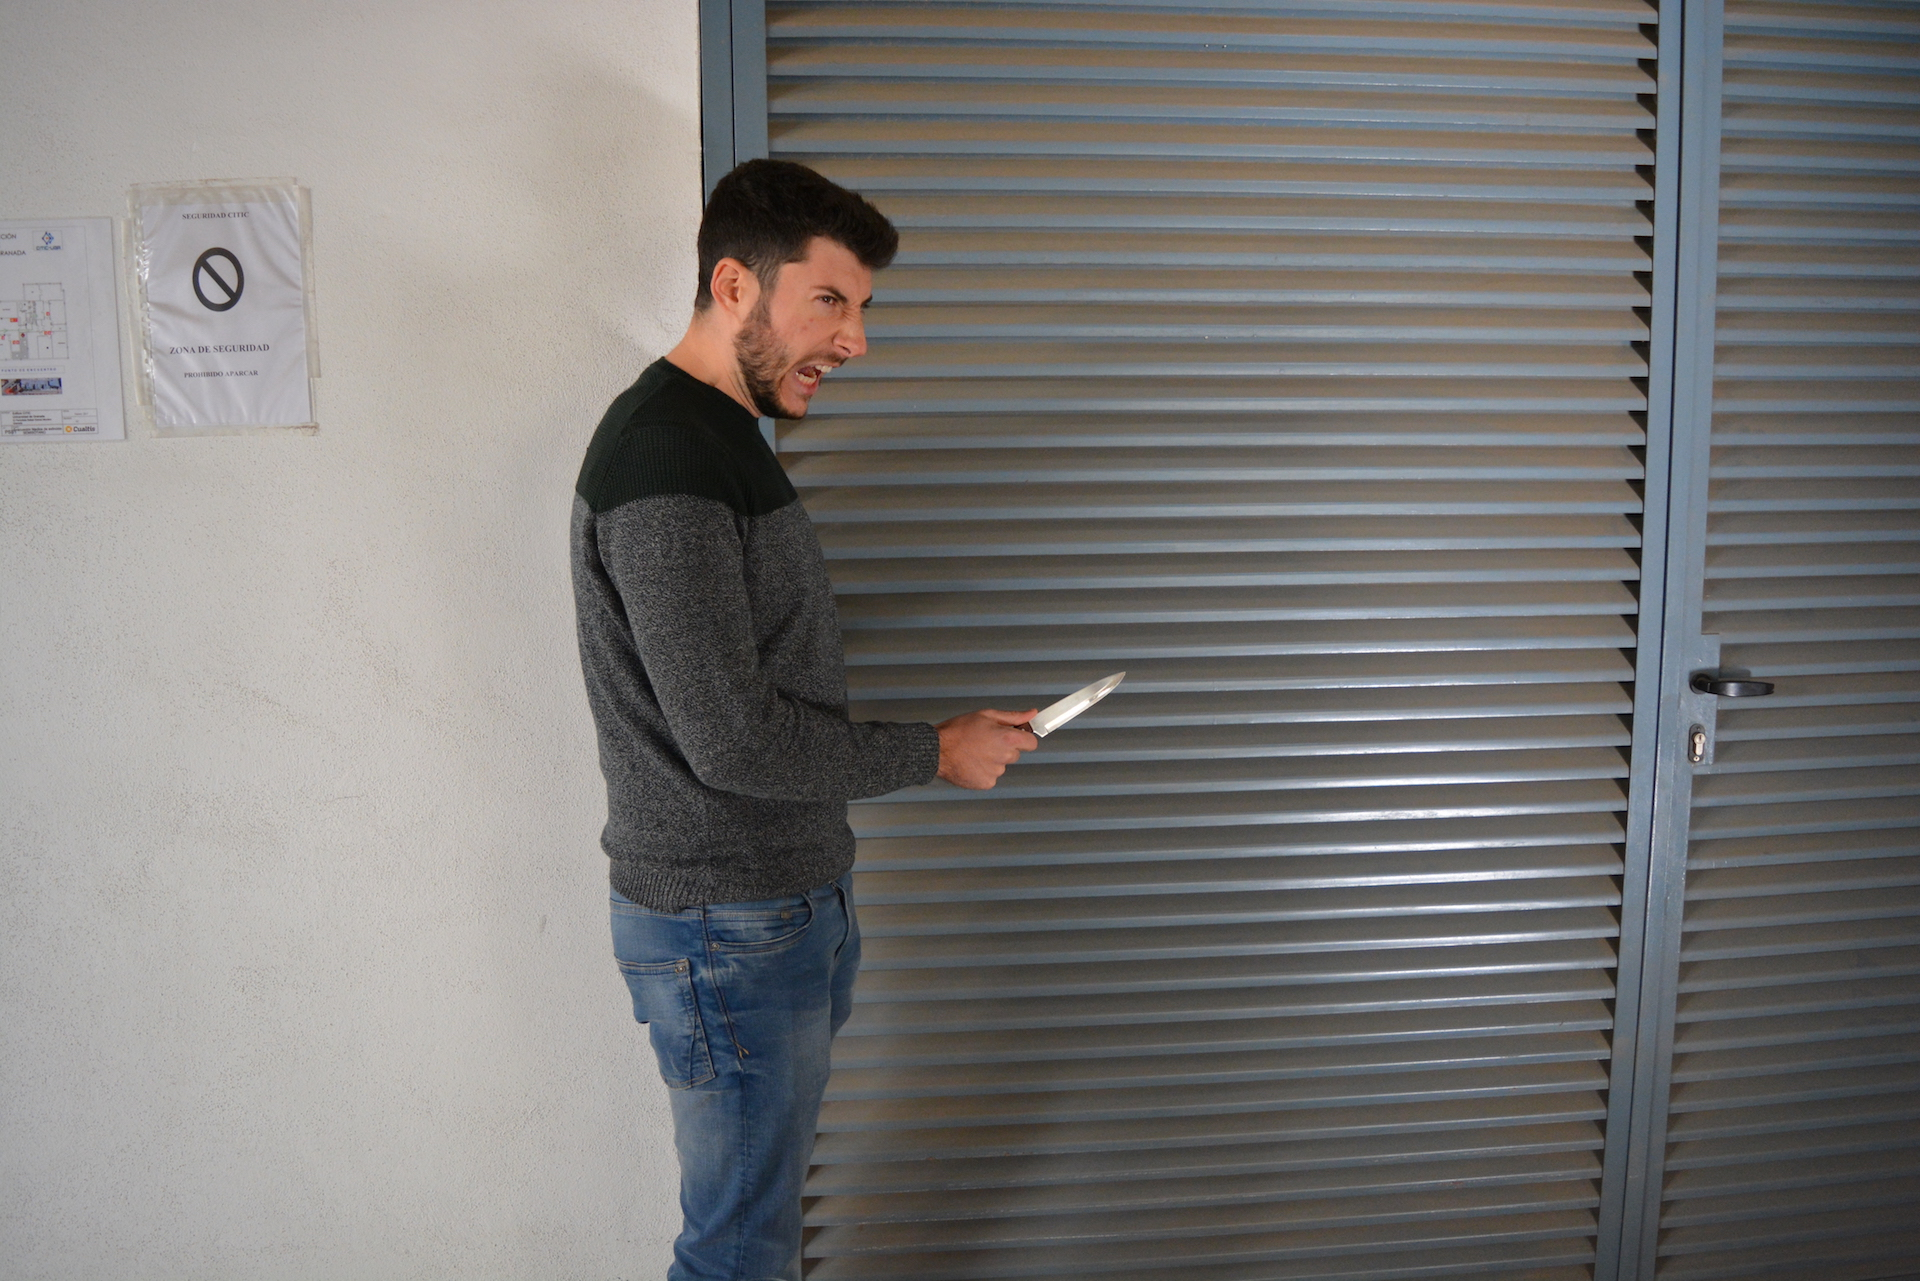knife: (986, 663, 1137, 759)
